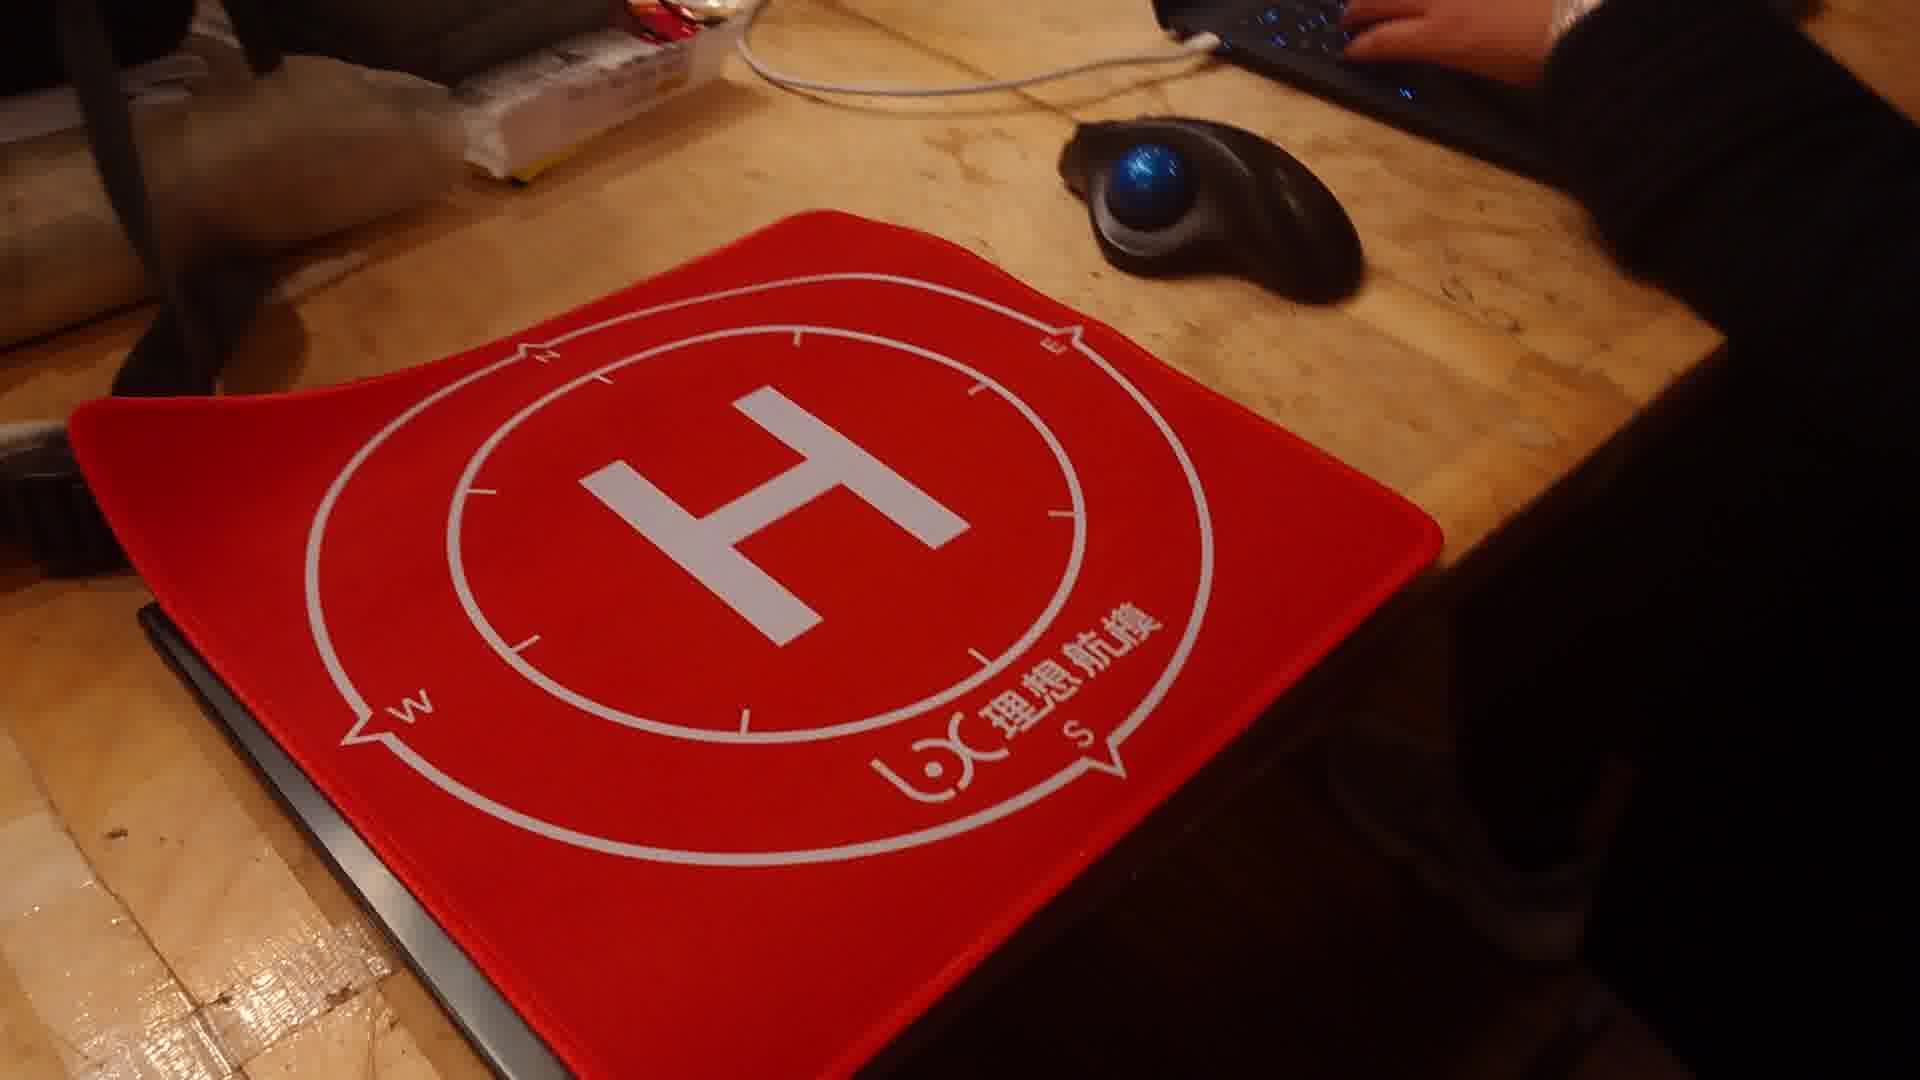H: (582, 386, 971, 647)
